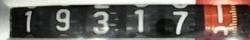digits: (92, 10, 110, 34), (172, 10, 188, 35), (54, 8, 70, 31), (212, 4, 226, 24), (134, 9, 144, 32), (24, 10, 32, 32)
